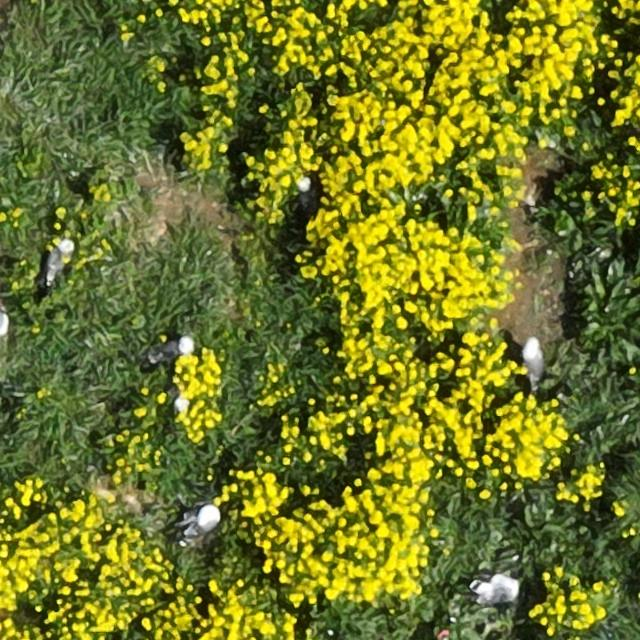umineko: (188, 504, 220, 534), (44, 242, 67, 280), (522, 340, 542, 382), (154, 336, 192, 356), (296, 178, 315, 212)
